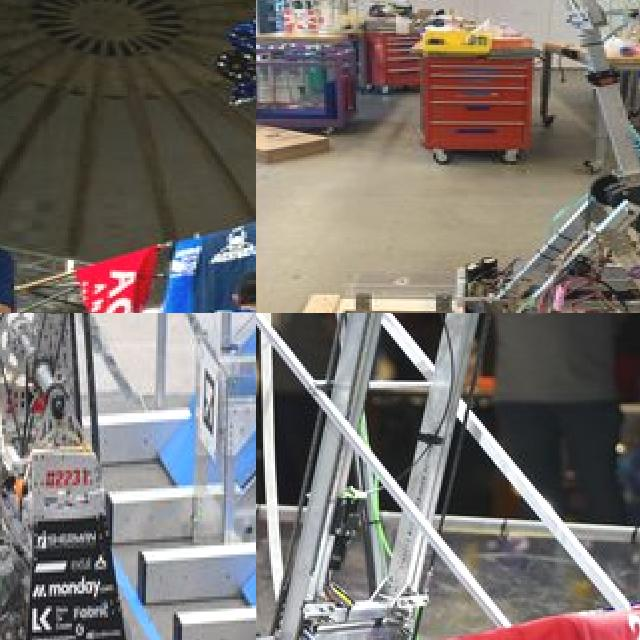FRC-Robots: (256, 313, 640, 640), (356, 0, 640, 313), (3, 0, 256, 313), (0, 313, 186, 640)
